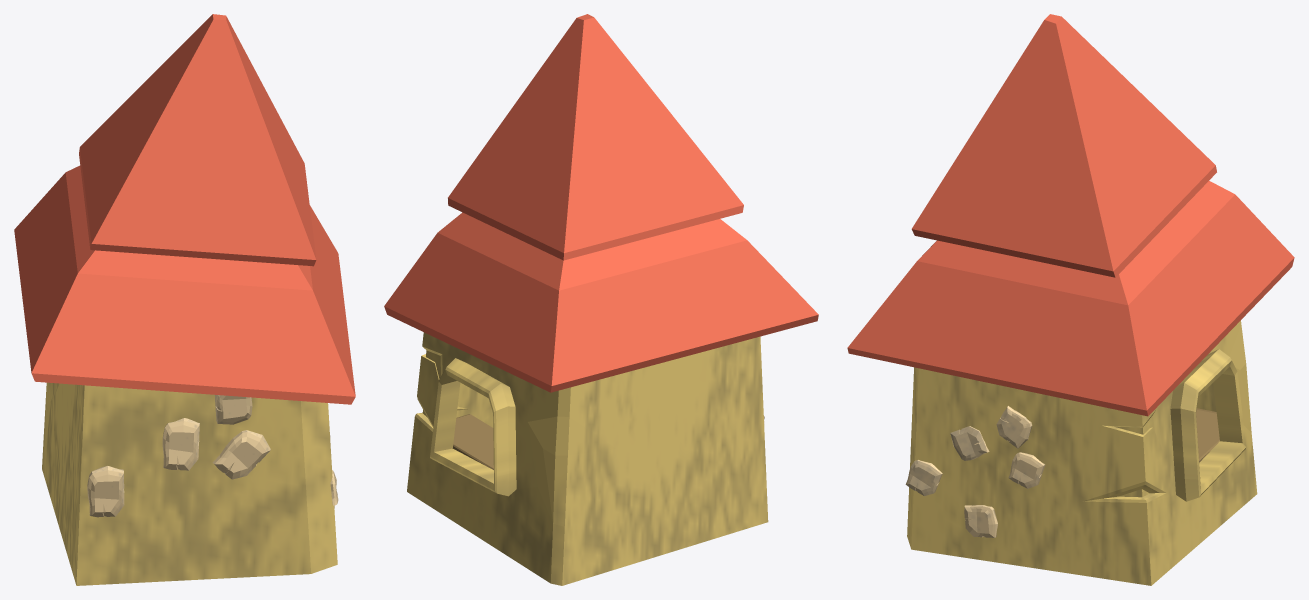
The model's file is lesbatiments1.fbx.
3 renders of one model, left to right at view 1: azimuth 30°, elevation 25°; view 2: azimuth 150°, elevation 25°; view 3: azimuth 270°, elevation 25°, orthographic. The views are drawn at different scales.
Visible parts, largest first — view 1: Cube.005; view 2: Cube.005; view 3: Cube.005.
Part boxes in pixels (bbox=[...]): Cube.005: bbox=[14, 14, 355, 585]; Cube.005: bbox=[384, 14, 818, 585]; Cube.005: bbox=[847, 14, 1294, 585].
Bounding box in the file's own units: 1500 × 1484 × 1891.
